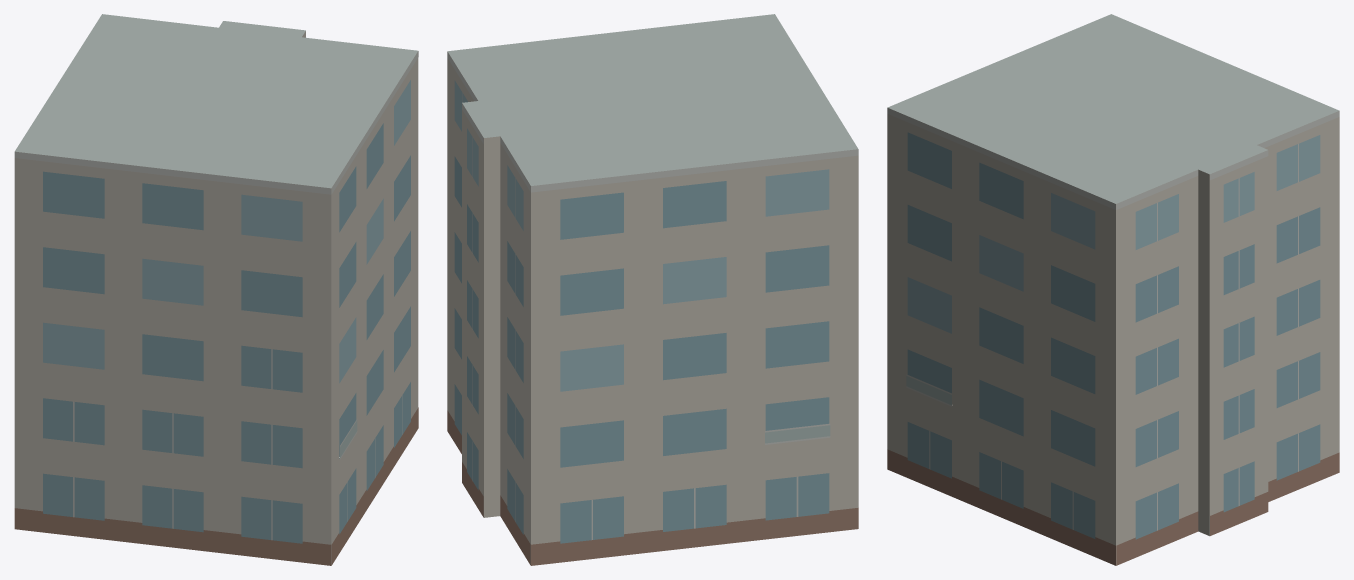
File: survey-upis-32995393.glb
The picture shows the model from 3 angles, left to right: view 1: azimuth 30°, elevation 25°; view 2: azimuth 150°, elevation 25°; view 3: azimuth 270°, elevation 25°; orthographic projection. The views are drawn at different scales.
Parts seen in each view (by area): view 1: survey-upis-32995393.tmp; view 2: survey-upis-32995393.tmp; view 3: survey-upis-32995393.tmp.
Part boxes in pixels (box(x1,y1,x2,y2)): survey-upis-32995393.tmp: box(14, 14, 418, 565); survey-upis-32995393.tmp: box(447, 14, 858, 565); survey-upis-32995393.tmp: box(887, 14, 1339, 565).
Size of the model in its own units: 16.23 by 14.4 by 16.32.
